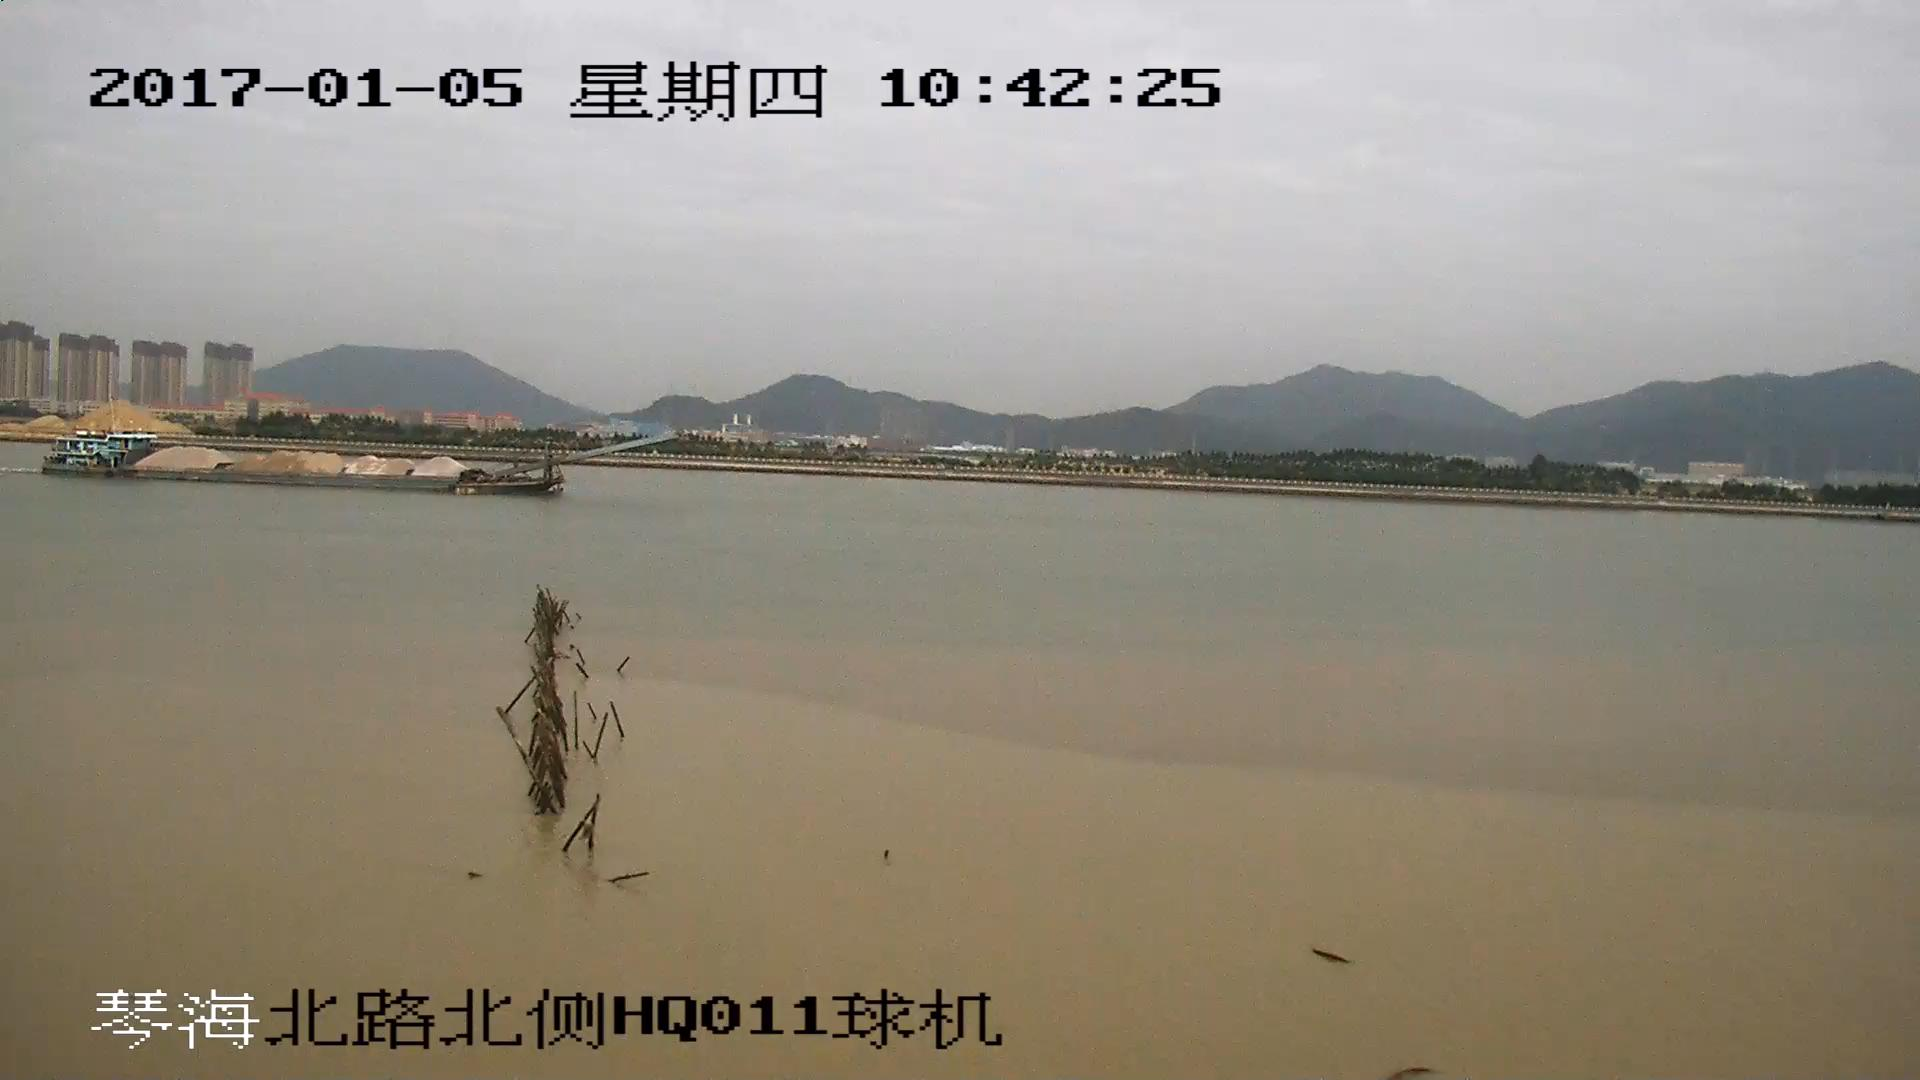ore carrier: (36, 434, 674, 498)
